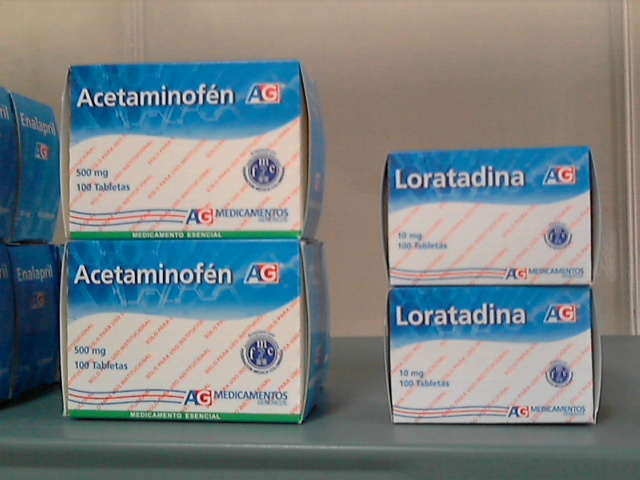AG: (66, 242, 301, 421), (71, 64, 301, 240), (392, 289, 592, 424), (388, 152, 591, 284)
